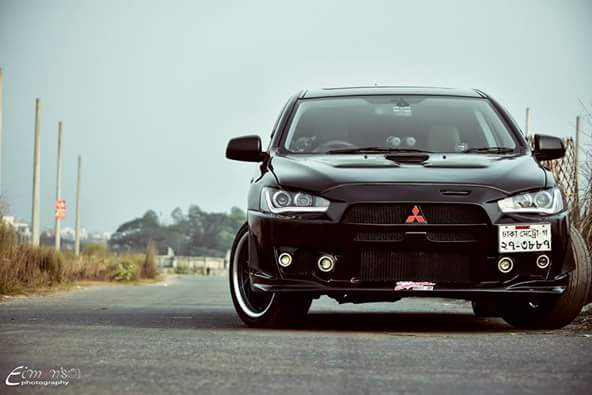registration_plate: (498, 223, 551, 251)
